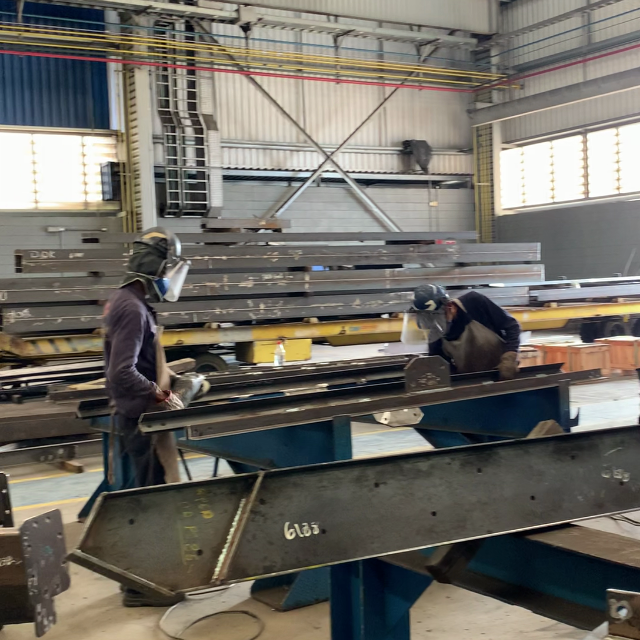face-shield: (402, 312, 448, 345), (161, 257, 191, 303)
glove: (498, 351, 520, 378), (161, 393, 187, 412)
helmet: (132, 228, 192, 259), (411, 280, 447, 311)
person: (104, 225, 211, 410), (400, 280, 520, 378)
safety-shoe: (122, 590, 187, 609)
